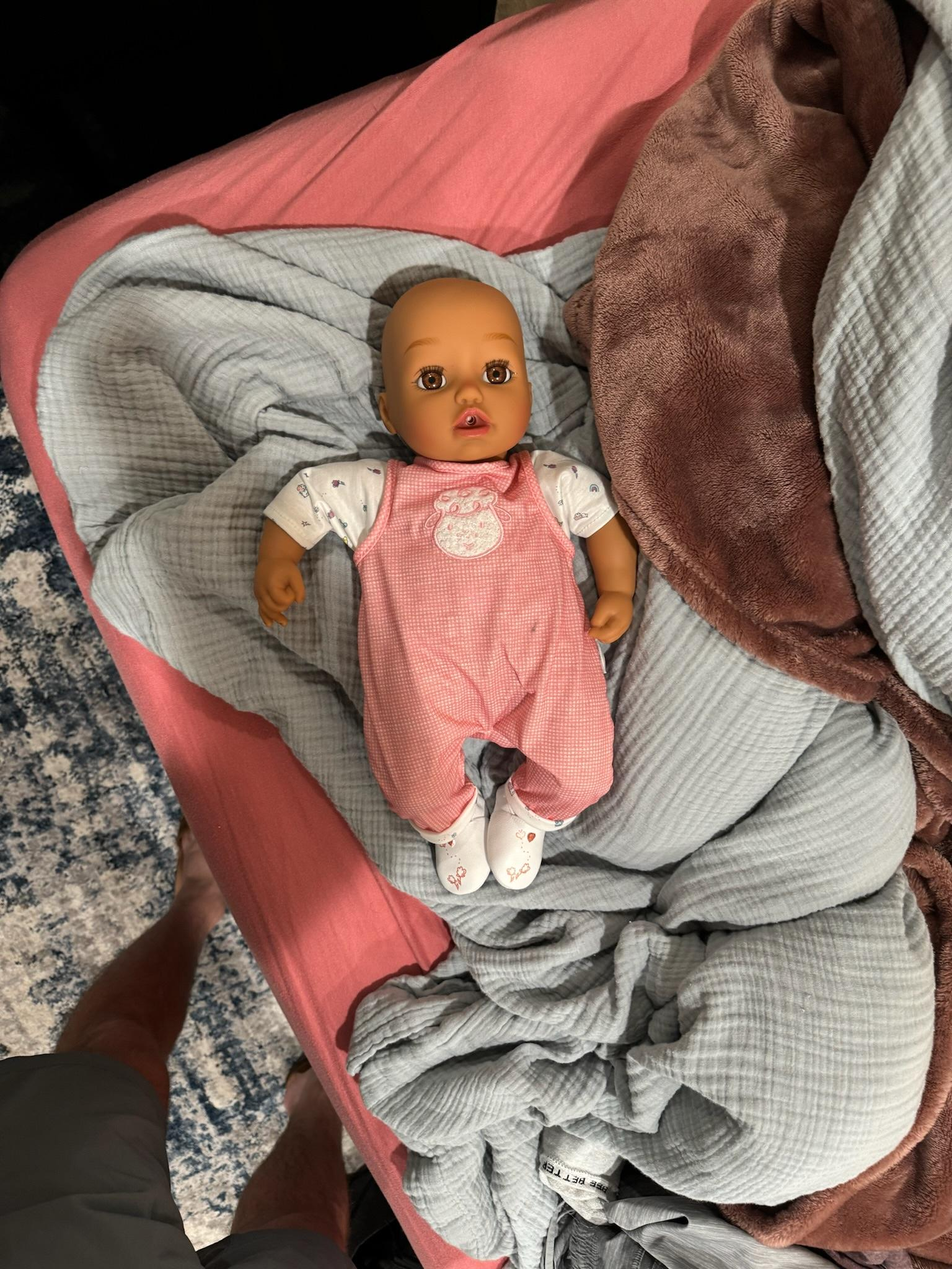baby: (267, 269, 657, 919)
